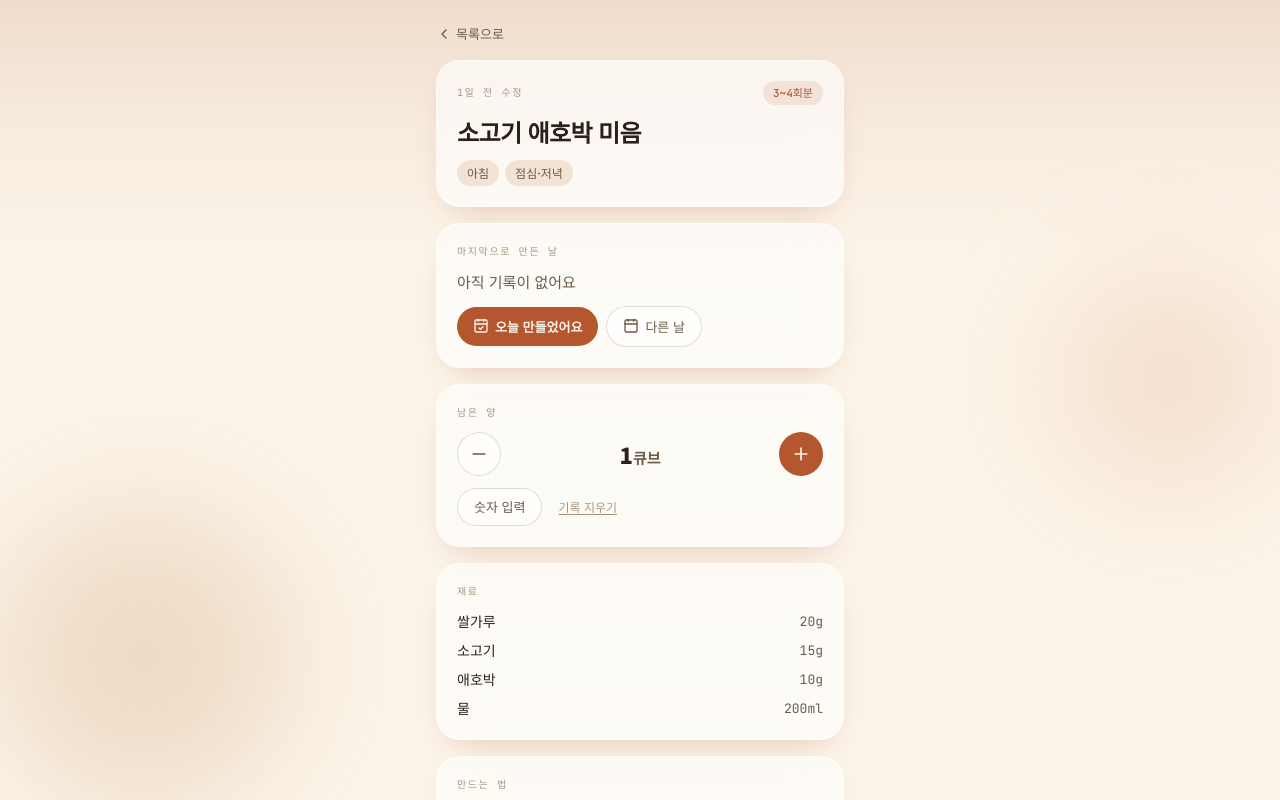
it: RecipeDetailScreen › disables − at 0 and shows that it's all eaten
The width and height of the screenshot is (1280, 800).
Click the button named "하나 줄이기": (479, 454) x1=457 y1=432 x2=501 y2=476
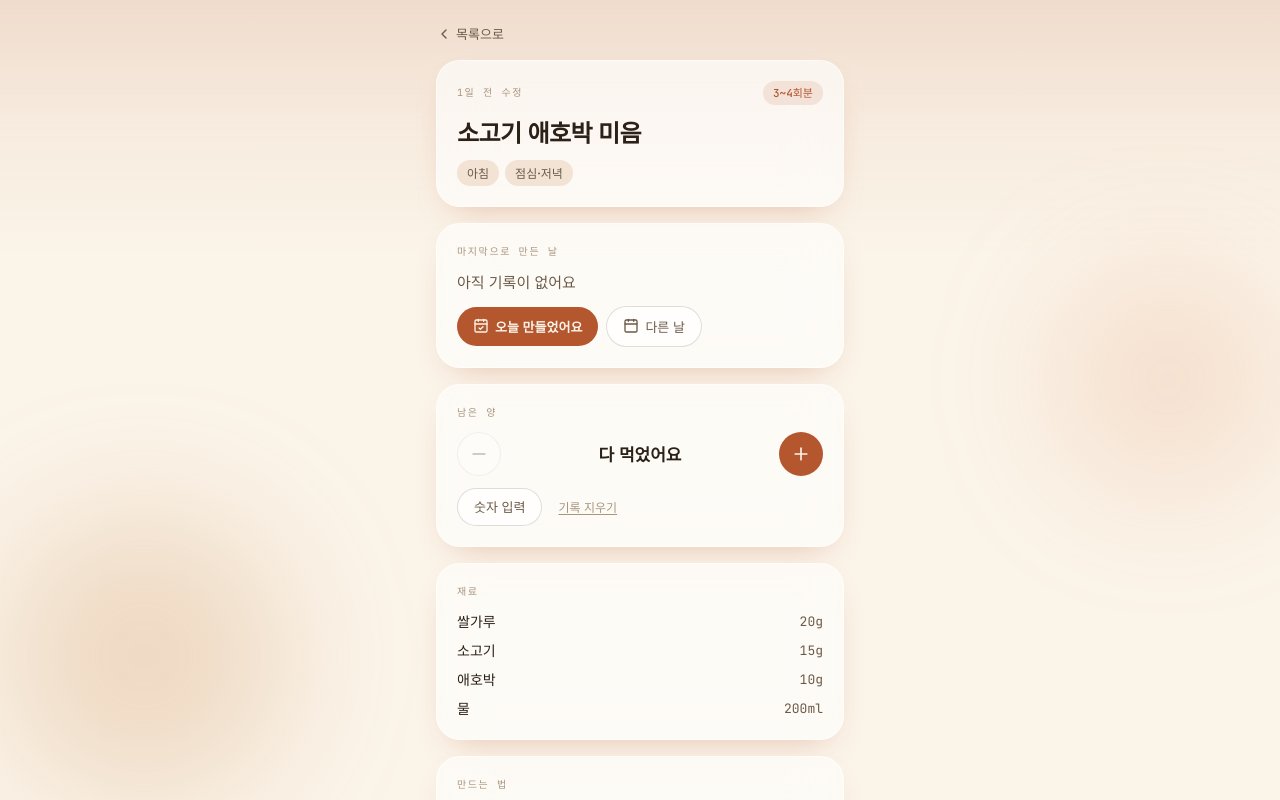
Expected: the button named "하나 늘리기" is enabled, x1=779 y1=432 x2=823 y2=476
Expected: the element with test id "leftover" reads "다 먹었어요", x1=598 y1=441 x2=682 y2=466
